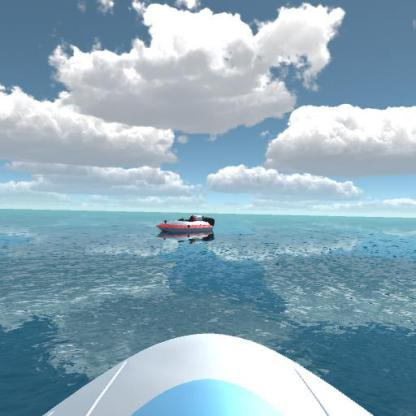usv3: (156, 212, 223, 244)
